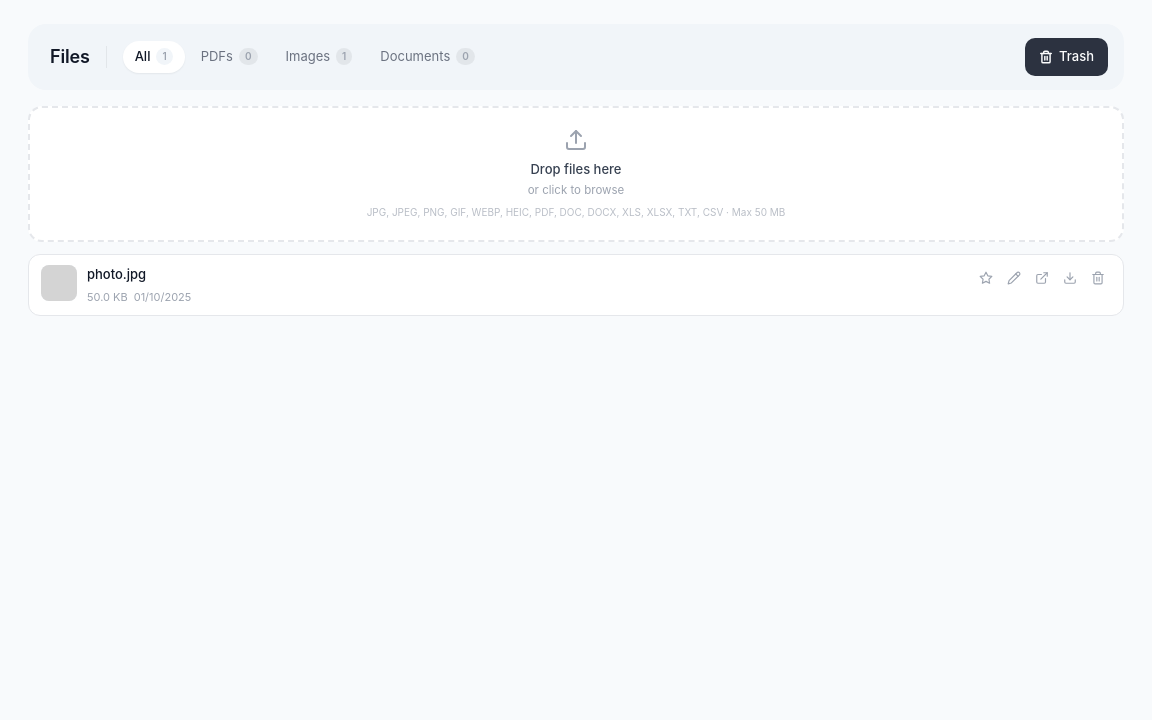
Test: FileManager › FE-COMP-FILEMANAGER-011: escape key closes lightbox
This screenshot has width=1152, height=720.
Open lightbox
Click the text "photo.jpg" at (117, 275), box [87,265,146,285]
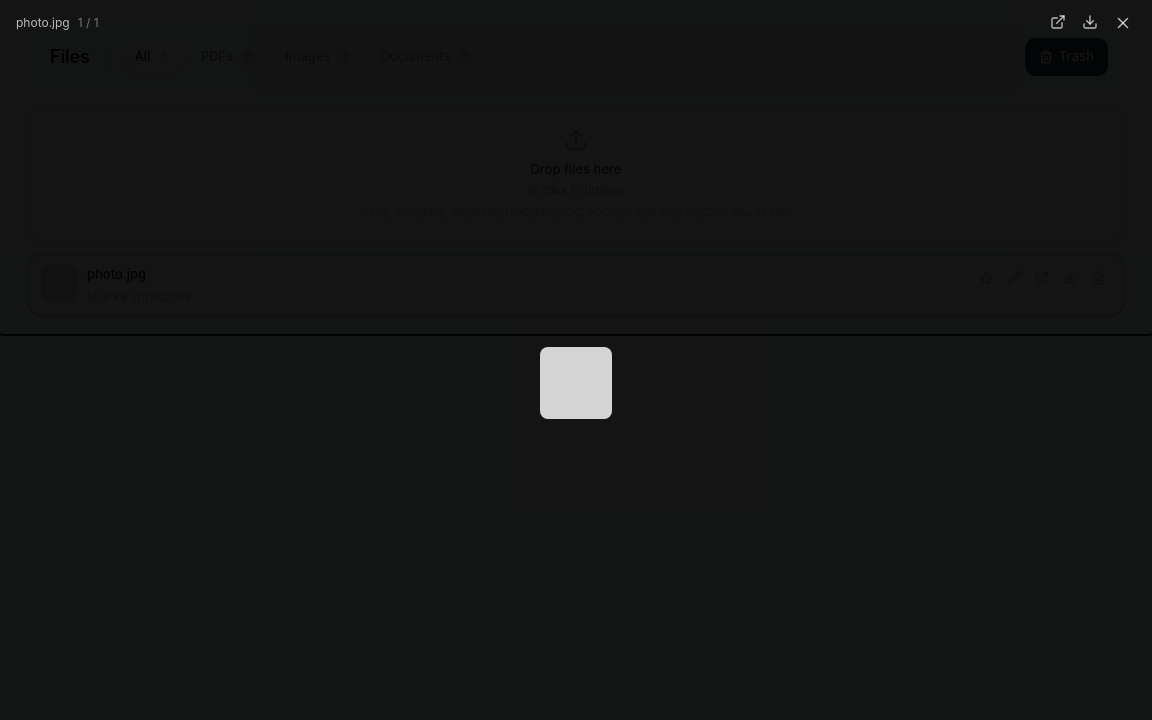
Expected: the text "1 / 1" is shown, [78,15,99,30]
Press Escape
Press Escape
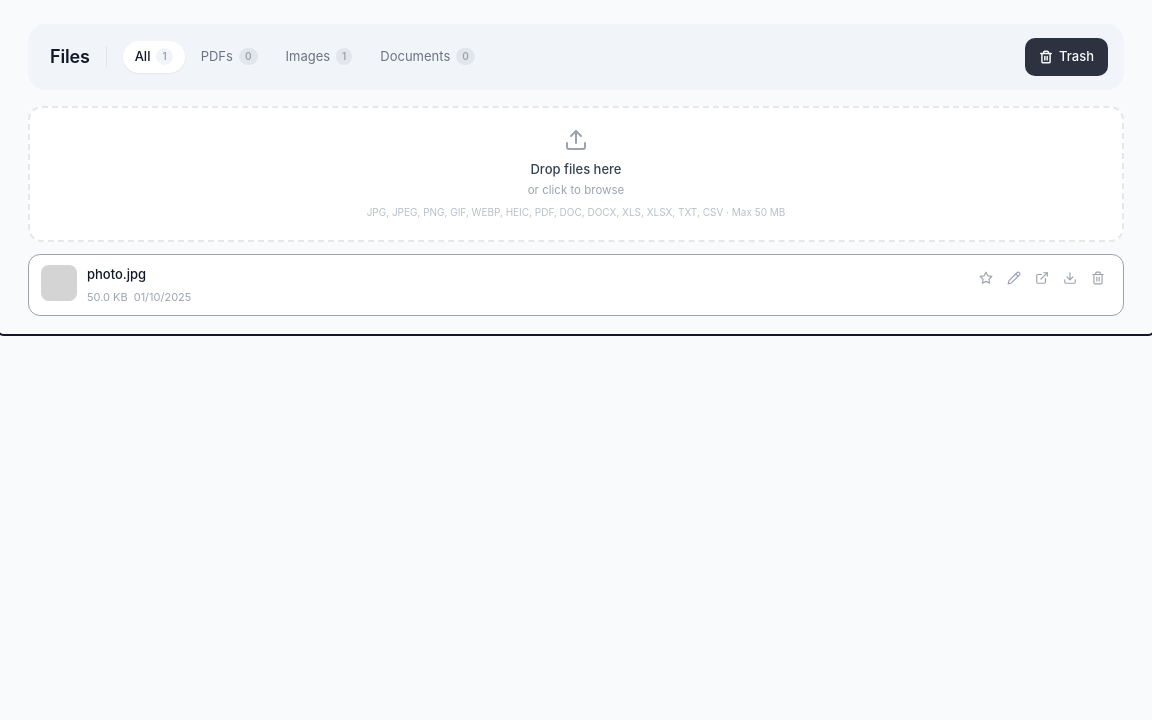
Expected: the text "1 / 1" is gone
